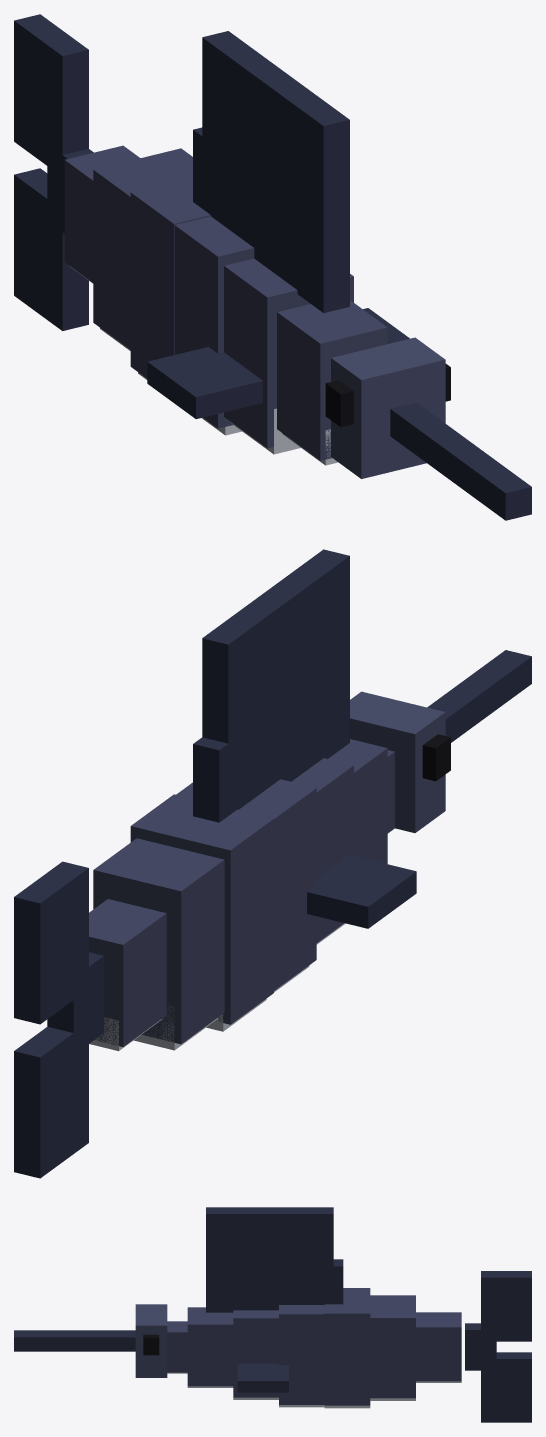
File: Swordfish.obj
3 renders of one model, top to bottom at view 1: azimuth 30°, elevation 25°; view 2: azimuth 150°, elevation 25°; view 3: azimuth 270°, elevation 25°, orthographic. The views are drawn at different scales.
Visible parts, largest first — view 1: Swordfish; view 2: Swordfish; view 3: Swordfish.
Boxes of the visible parts, x1,y1,x2,y2 form: Swordfish: (14, 14, 531, 520); Swordfish: (14, 549, 531, 1178); Swordfish: (14, 1207, 531, 1422).
Size of the model in its own units: 0.42 by 0.72 by 1.62.
Materials: 1 (1 with a texture image).
